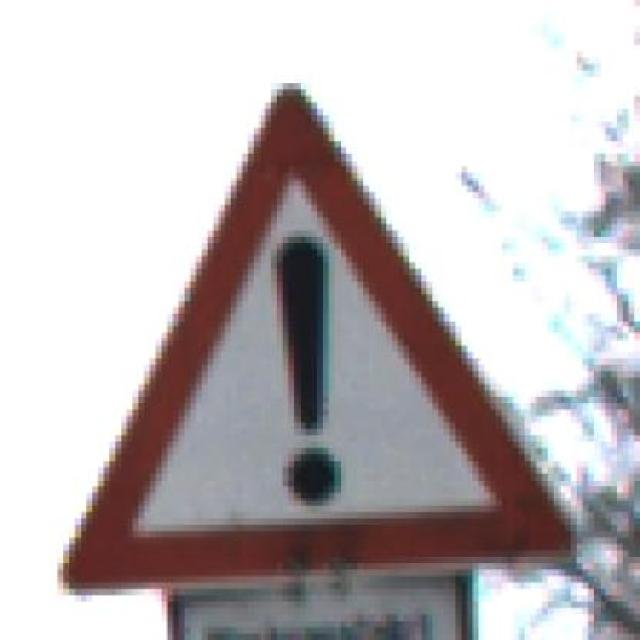Attention Please-: (28, 64, 566, 588)
